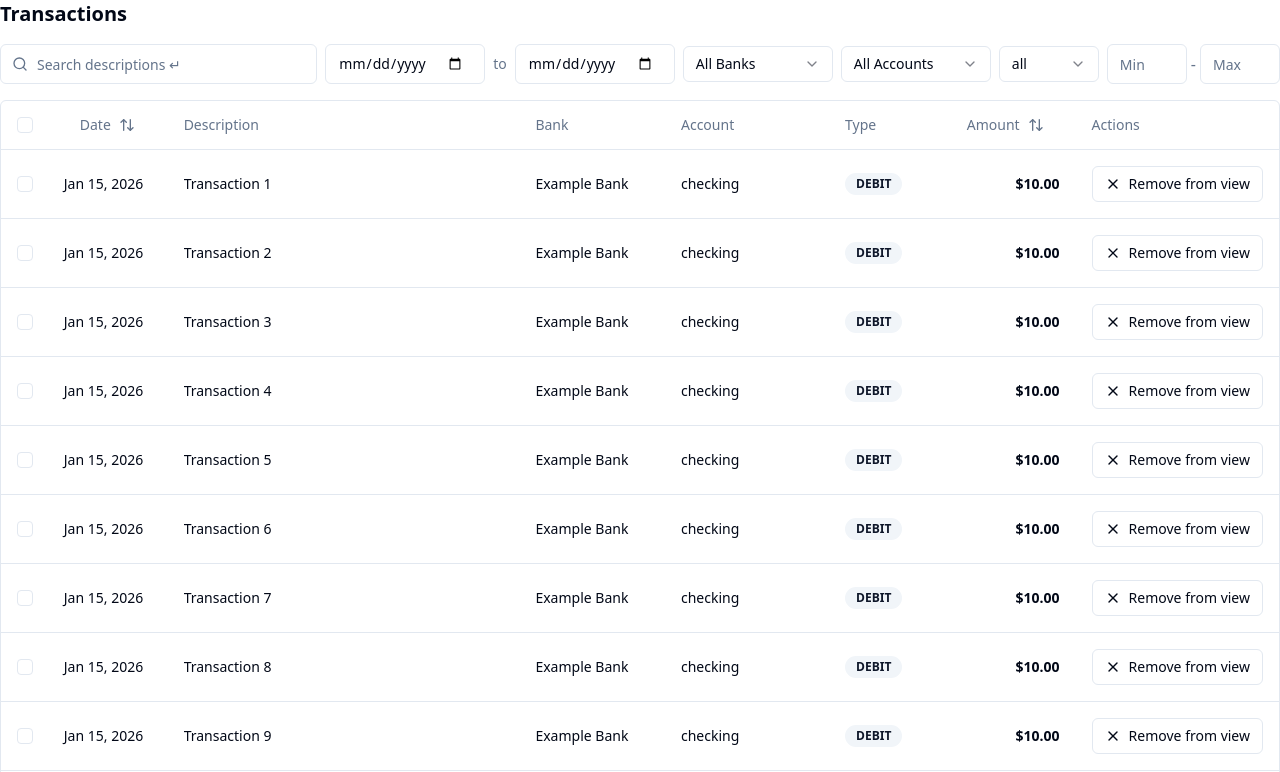
Test case: ViewTransactionTable › removes all filtered members rather than only the visible page
Click the checkbox named "Select all transactions on this page" at {"x": 25, "y": 125}, box [17,117,33,133]
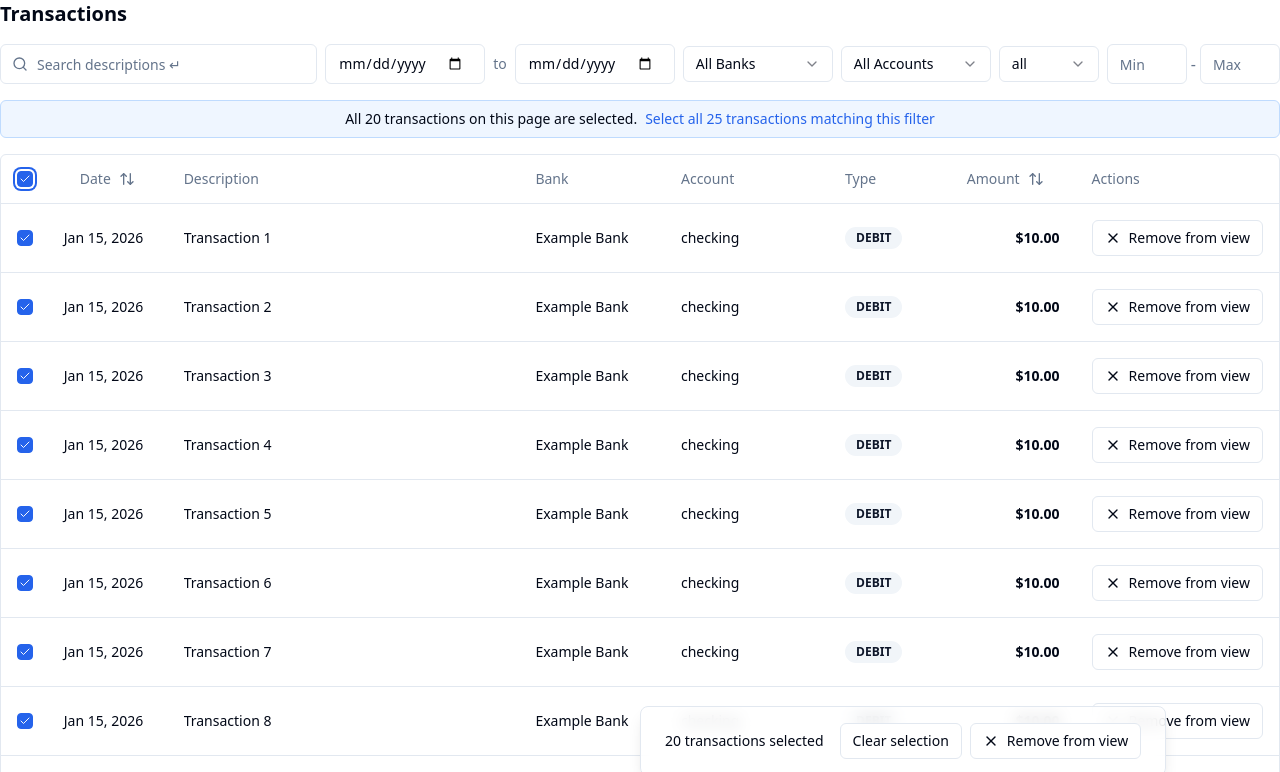
Click the button "Select all 25 transactions matching this filter" at {"x": 790, "y": 119}, box [645,109,935,129]
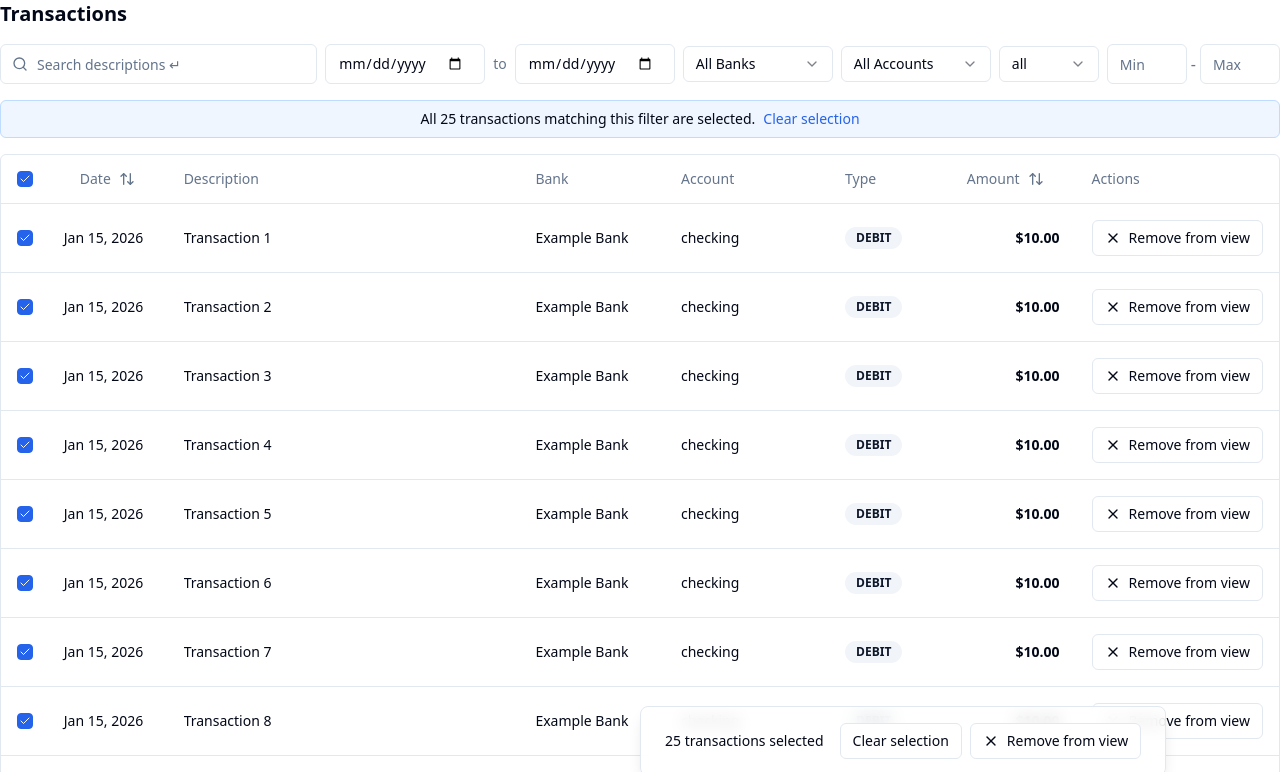
Check: the text "All 25 transactions matching this filter are selected." is shown, box [420,109,755,129]
Click the 9th button "Remove from view" at {"x": 1056, "y": 741}, box [970,723,1141,759]
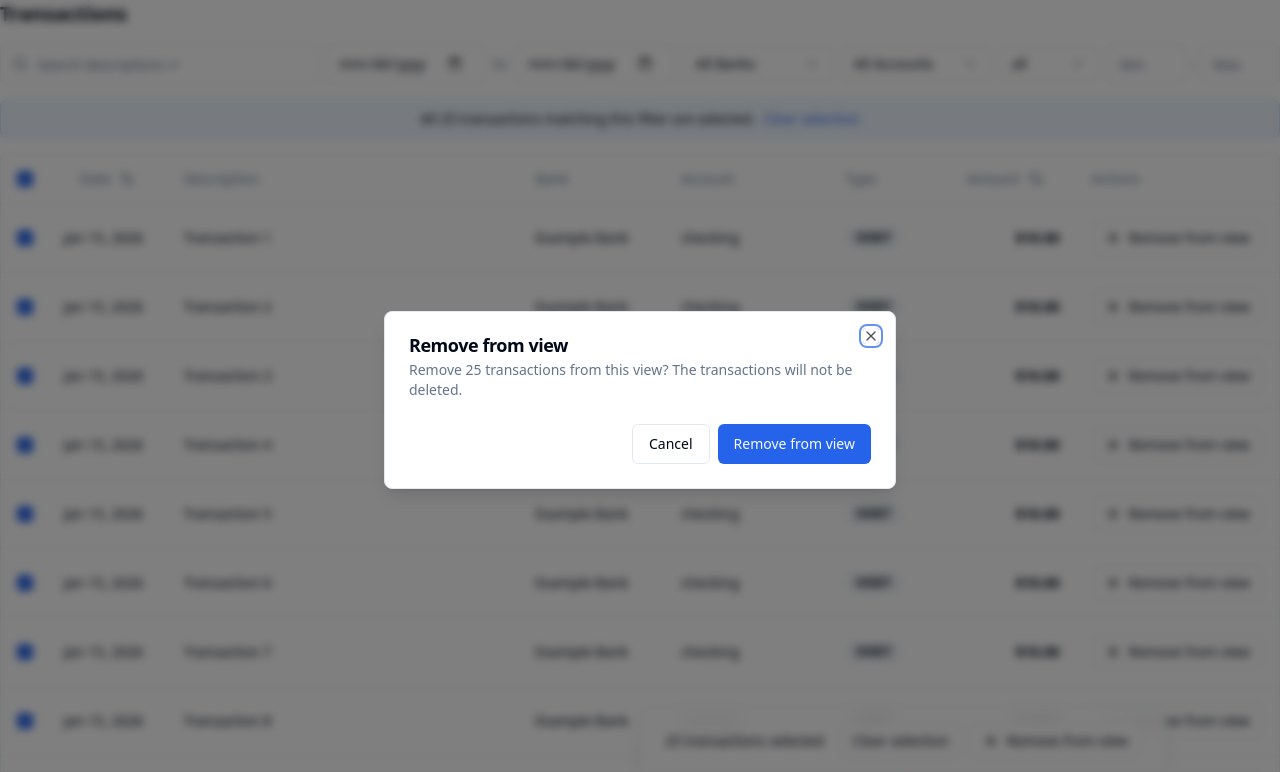
Check: the text "Remove 25 transactions from this view" is shown, box [409,360,871,400]
Click the button "Remove from view" at {"x": 794, "y": 444}, box [718,424,871,464]
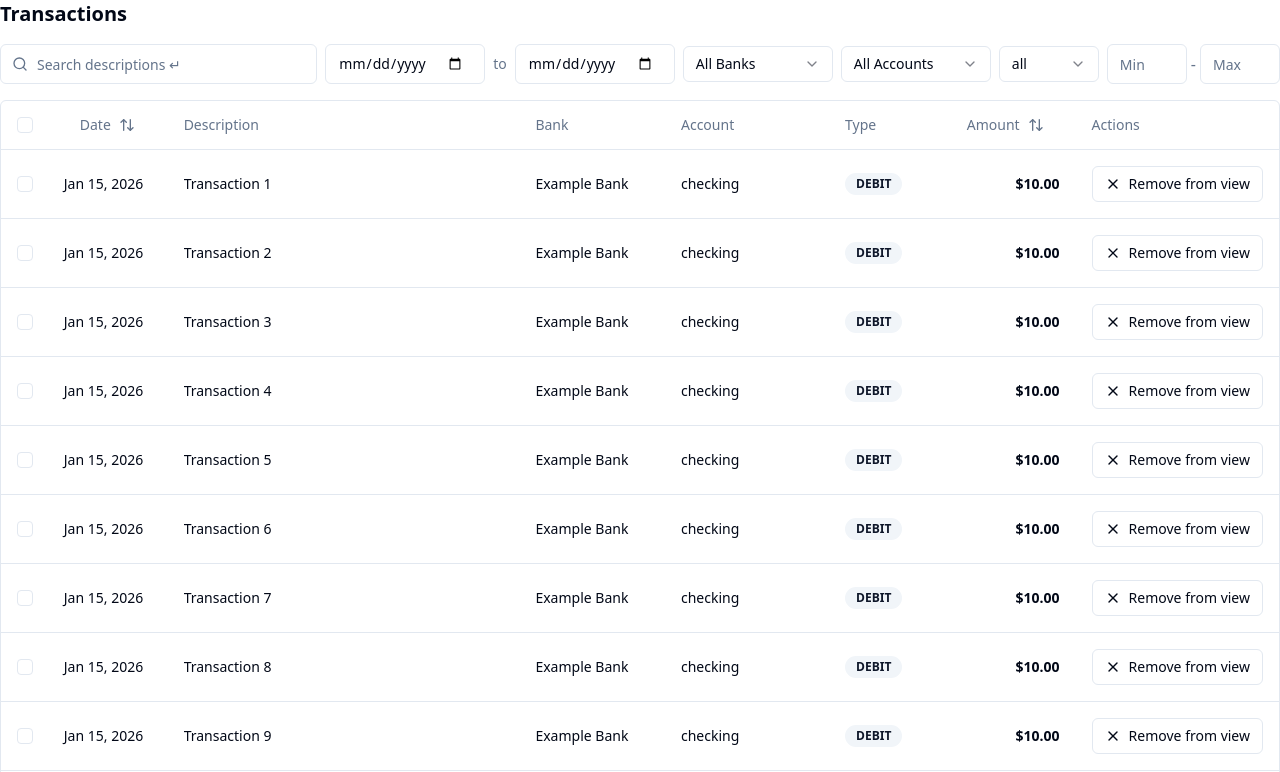
Check: the text "All 25 transactions matching this filter are selected." is gone
